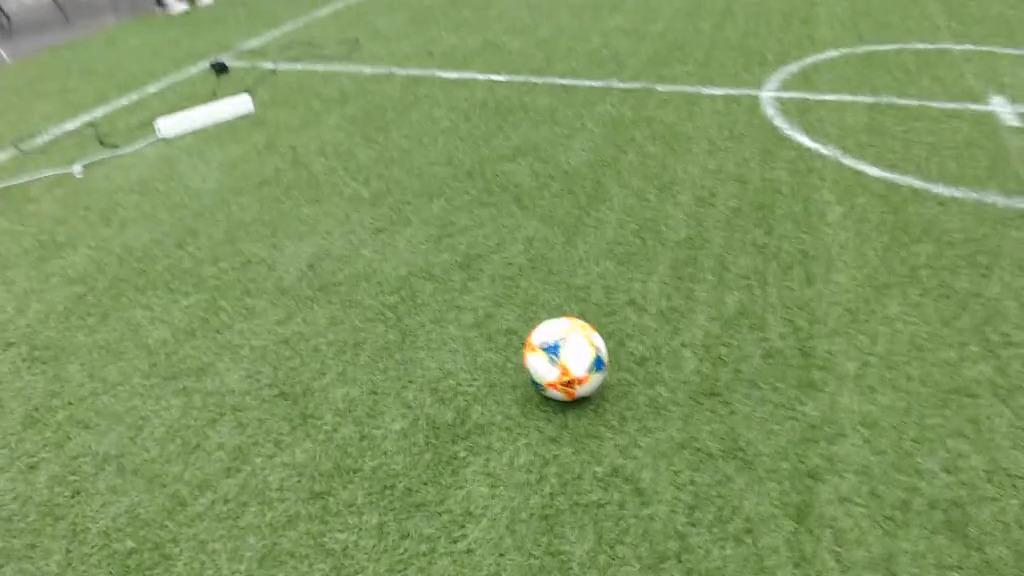ball: (525, 315, 607, 404)
